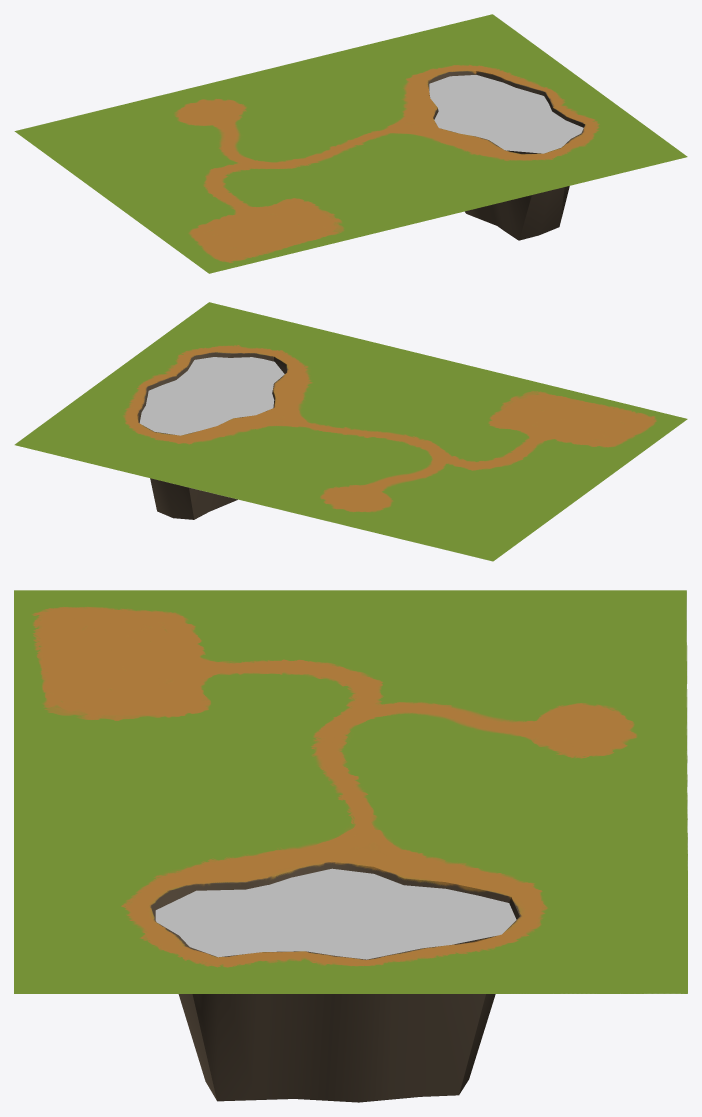
Rendered from map_plane_gamejam.fbx.
3 renders of one model, top to bottom at view 1: azimuth 30°, elevation 25°; view 2: azimuth 150°, elevation 25°; view 3: azimuth 270°, elevation 25°, orthographic. The views are drawn at different scales.
Visible parts, largest first — view 1: map, water; view 2: map, water; view 3: map, water.
Part boxes in pixels (bbox=[...]): map: bbox=[14, 14, 687, 273]; water: bbox=[429, 75, 583, 153]; map: bbox=[14, 302, 687, 561]; water: bbox=[139, 357, 284, 435]; map: bbox=[14, 590, 687, 1102]; water: bbox=[155, 868, 516, 959].
Size of the model in its own units: 72.97 by 14.01 by 51.51.
